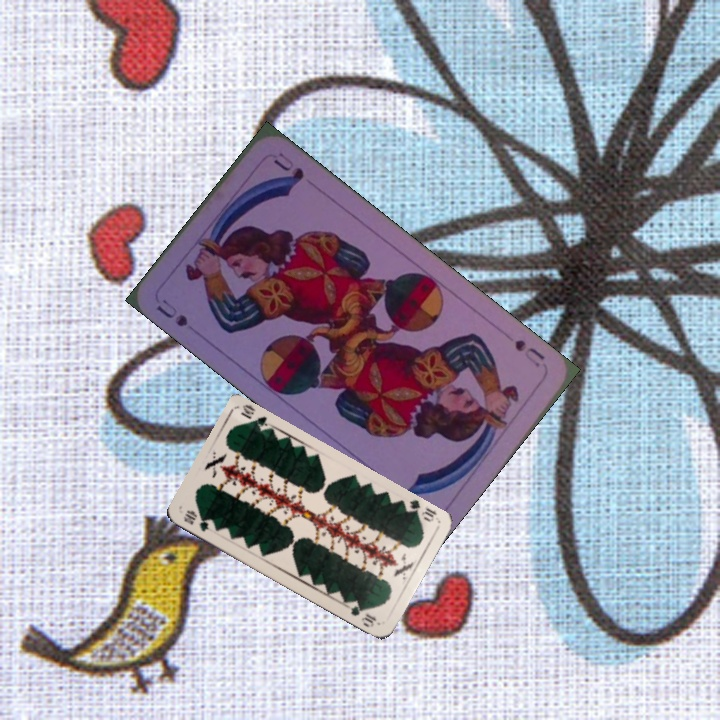G10: (400, 496, 440, 525), (179, 506, 211, 534)
SU: (152, 295, 191, 329), (510, 335, 547, 370)
